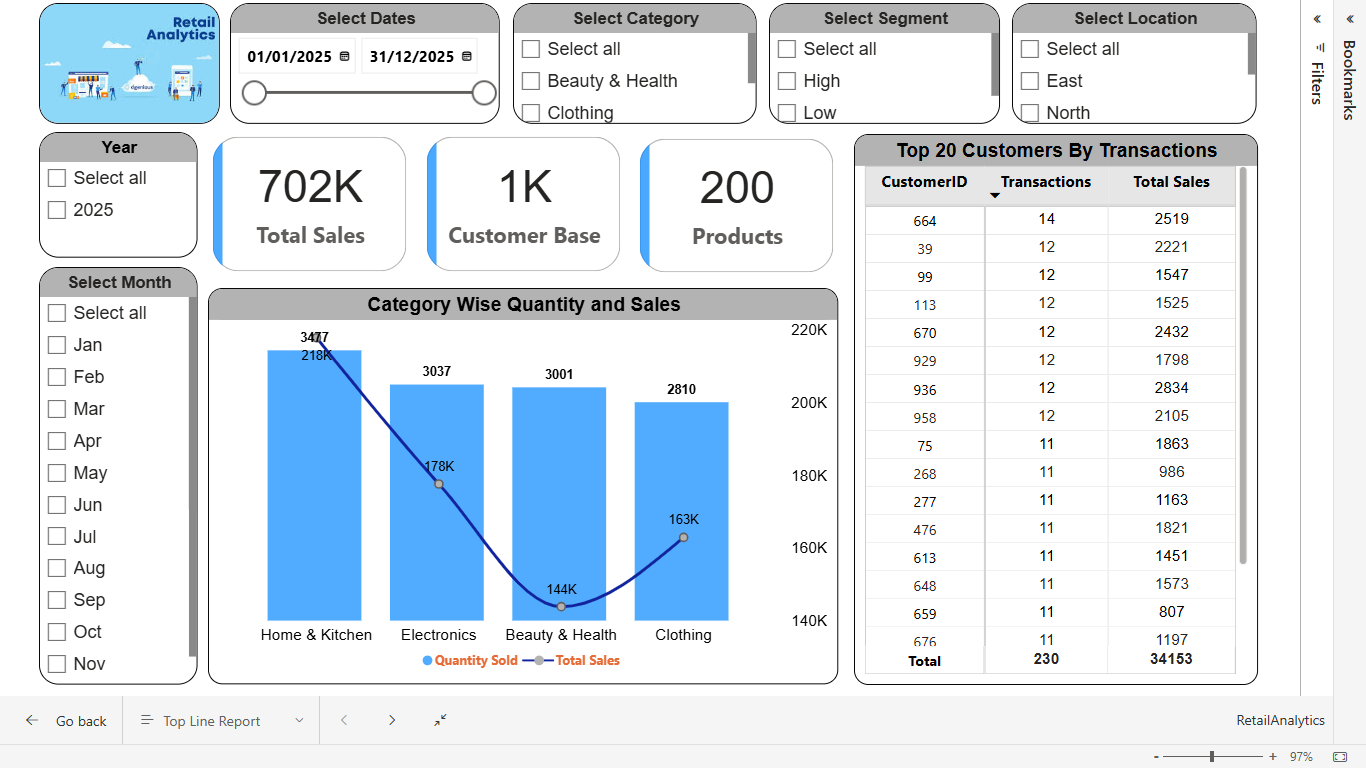

What the dashboard file says about the page in this screenshot:
{"tool":"powerbi","page":{"name":"Top Line Report","canvas":[1280,720],"ordinal":0},"visuals":[{"type":"image","box":[8.6,2.9,187.2,125.3],"z":0},{"type":"cardVisual","fields":{"Data":["All Measures.Total Sales"]},"box":[182.9,136.8,210.2,149.8],"z":1000},{"type":"cardVisual","fields":{"Data":["All Measures.Customer Base"]},"box":[404.6,136.8,210.2,149.8],"z":2000},{"type":"cardVisual","fields":{"Data":["All Measures.Products"]},"box":[625,138.2,210.2,148.3],"z":3000},{"type":"pivotTable","title":"Top 20 Customers By Transactions","fields":{"Rows":["Sales.CustomerID"],"Values":["All Measures.Transactions","All Measures.Total Sales"]},"box":[835.2,136.8,417.6,570.2],"z":4000},{"type":"lineClusteredColumnComboChart","title":"Category Wise Quantity and Sales","fields":{"Category":["Products.Category"],"Y":["All Measures.Quantity Sold"],"Y2":["All Measures.Total Sales"]},"box":[182.9,298.1,652.3,410.4],"z":5000},{"type":"slicer","title":"Select Dates","fields":{"Values":["Calendar.Date"]},"box":[205.9,2.9,279.4,125.3],"z":6000},{"type":"slicer","title":"Year","fields":{"Values":["Calendar.Year"]},"box":[8.6,136.8,164.2,129.6],"z":7000},{"type":"slicer","title":"Select Month","fields":{"Values":["Calendar.Month Name"]},"box":[8.6,276.5,164.2,432],"z":9000},{"type":"slicer","title":"Select Category","fields":{"Values":["Products.Category"]},"box":[498.2,2.9,252,125.3],"z":11000},{"type":"slicer","title":"Select Segment","fields":{"Values":["Customer_Segment.Customer_Segment"]},"box":[763.2,2.9,239,125.3],"z":12000},{"type":"slicer","title":"Select Location","fields":{"Values":["Customers.Location"]},"box":[1015.2,2.9,253.4,125.3],"z":13000}]}

Visuals, with their boxes on the page's 1280x720 design canvas (x1, y1, x2, y2). These are canvas units, not pixel positions in the 1366x768 screenshot, which may show the page scaled, cropped or inside an application window:
image: x1=9 y1=3 x2=196 y2=128
cardVisual - All Measures.Total Sales: x1=183 y1=137 x2=393 y2=287
cardVisual - All Measures.Customer Base: x1=405 y1=137 x2=615 y2=287
cardVisual - All Measures.Products: x1=625 y1=138 x2=835 y2=286
"Top 20 Customers By Transactions" pivotTable: x1=835 y1=137 x2=1253 y2=707
"Category Wise Quantity and Sales" lineClusteredColumnComboChart: x1=183 y1=298 x2=835 y2=708
"Select Dates" slicer: x1=206 y1=3 x2=485 y2=128
"Year" slicer: x1=9 y1=137 x2=173 y2=266
"Select Month" slicer: x1=9 y1=276 x2=173 y2=708
"Select Category" slicer: x1=498 y1=3 x2=750 y2=128
"Select Segment" slicer: x1=763 y1=3 x2=1002 y2=128
"Select Location" slicer: x1=1015 y1=3 x2=1269 y2=128
